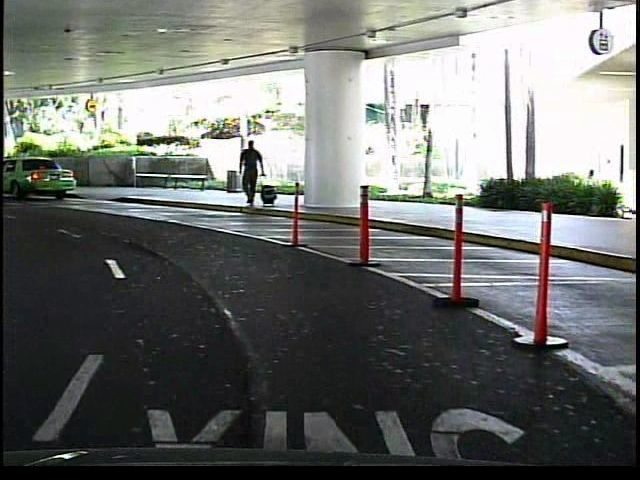person: (236, 136, 268, 211)
